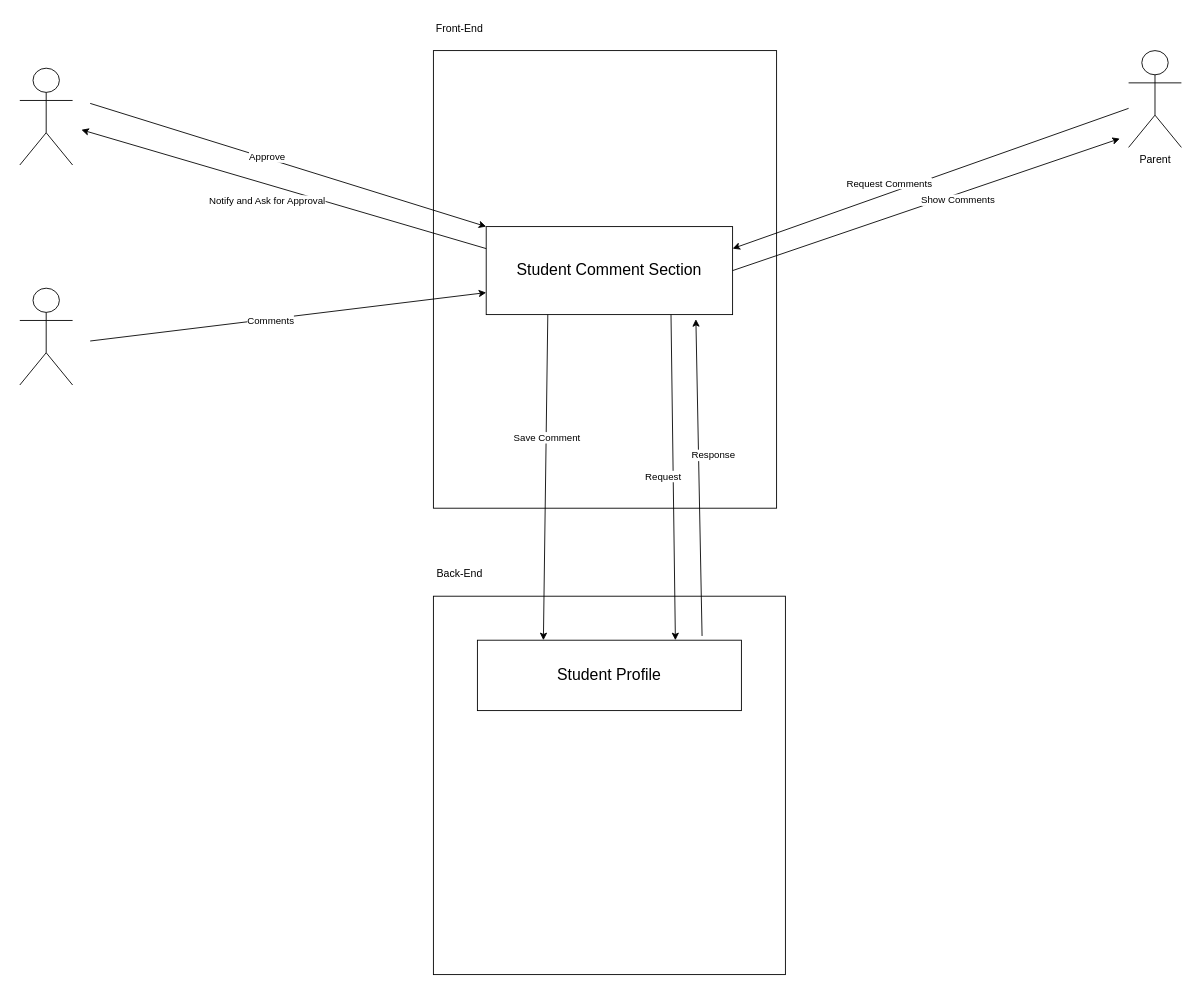
Some shapes in this 1197 by 990 pixel diagram are drawn without their labels. The shapes that lost their labels are listed below. From the top down, each one's box as (x1, y1, x2, y2) in pixels, then its label:
(19, 67, 73, 165): Administrator
(19, 287, 73, 385): Tutors
